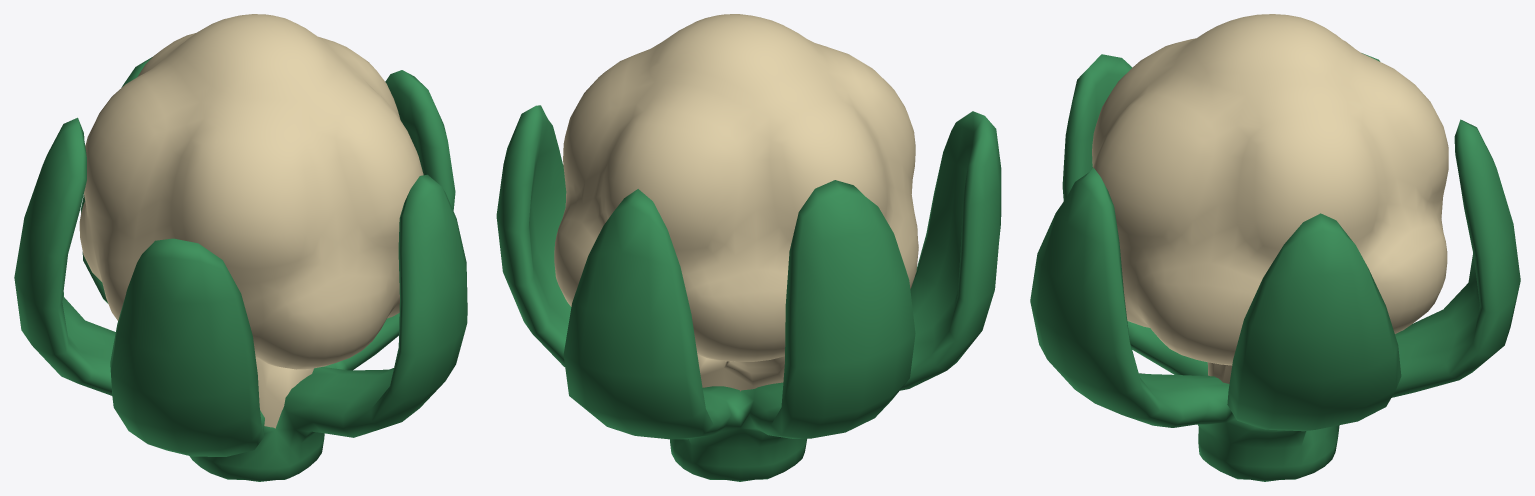
The model's file is Cauliflower_06.dae.
3 views of the same model, side by side, from view 1: azimuth 30°, elevation 25°; view 2: azimuth 150°, elevation 25°; view 3: azimuth 270°, elevation 25° (orthographic).
Visible parts, largest first — view 1: Cauliflower_06_LOD0; view 2: Cauliflower_06_LOD0; view 3: Cauliflower_06_LOD0.
Part boxes in pixels (<box>): Cauliflower_06_LOD0: <box>14,14,467,481</box>; Cauliflower_06_LOD0: <box>496,14,1001,481</box>; Cauliflower_06_LOD0: <box>1030,14,1520,481</box>.
Size of what is drawn, in the model's own units: 6.38 by 6.65 by 6.58.
